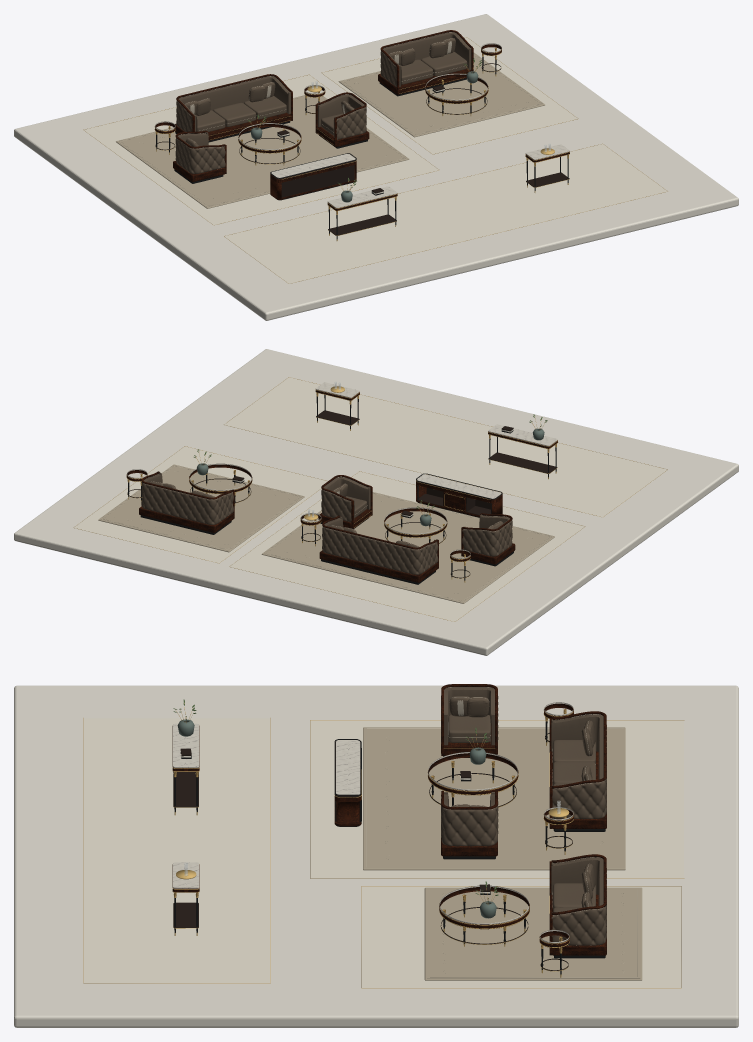
File: madison-exhibition.glb
3 renders of one model, top to bottom at view 1: azimuth 30°, elevation 25°; view 2: azimuth 150°, elevation 25°; view 3: azimuth 270°, elevation 25°, orthographic. The views are drawn at different scales.
Visible parts, largest first — view 1: Open exhibition web batch, Madison three-seat sofa | 50532.0 | salon-1 web batch, Madison two-seat sofa | 50533.0 | lounge-8 web batch, Madison TV furniture | salon-7 web batch, Madison armchair | 50534.0 | salon-3 web batch, Madison armchair | 50534.0 | salon-2 web batch, Madison console 170 | consoles-11 web batch, Madison console 100 | consoles-12 web batch, Madison coffee table | salon-4 web batch, Madison coffee table | lounge-10 web batch; view 2: Open exhibition web batch, Madison three-seat sofa | 50532.0 | salon-1 web batch, Madison two-seat sofa | 50533.0 | lounge-8 web batch, Madison TV furniture | salon-7 web batch, Madison armchair | 50534.0 | salon-3 web batch, Madison armchair | 50534.0 | salon-2 web batch, Madison console 170 | consoles-11 web batch, Madison console 100 | consoles-12 web batch, Madison coffee table | salon-4 web batch, Madison coffee table | lounge-10 web batch; view 3: Open exhibition web batch, Madison three-seat sofa | 50532.0 | salon-1 web batch, Madison two-seat sofa | 50533.0 | lounge-8 web batch, Madison armchair | 50534.0 | salon-2 web batch, Madison armchair | 50534.0 | salon-3 web batch, Madison TV furniture | salon-7 web batch, Madison console 170 | consoles-11 web batch, Madison coffee table | lounge-10 web batch, Madison console 100 | consoles-12 web batch, Madison coffee table | salon-4 web batch, Madison side table | lounge-9 web batch.
Boxes of the visible parts, x1=… form: Open exhibition web batch: x1=14, y1=14, x2=738, y2=320; Madison three-seat sofa | 50532.0 | salon-1 web batch: x1=173, y1=74, x2=292, y2=142; Madison two-seat sofa | 50533.0 | lounge-8 web batch: x1=378, y1=30, x2=473, y2=96; Madison TV furniture | salon-7 web batch: x1=270, y1=153, x2=356, y2=200; Madison armchair | 50534.0 | salon-3 web batch: x1=315, y1=92, x2=369, y2=148; Madison armchair | 50534.0 | salon-2 web batch: x1=173, y1=130, x2=226, y2=183; Madison console 170 | consoles-11 web batch: x1=327, y1=186, x2=397, y2=240; Madison console 100 | consoles-12 web batch: x1=525, y1=144, x2=569, y2=192; Madison coffee table | salon-4 web batch: x1=238, y1=123, x2=301, y2=165; Madison coffee table | lounge-10 web batch: x1=425, y1=73, x2=488, y2=115; Open exhibition web batch: x1=14, y1=349, x2=738, y2=655; Madison three-seat sofa | 50532.0 | salon-1 web batch: x1=319, y1=515, x2=438, y2=584; Madison two-seat sofa | 50533.0 | lounge-8 web batch: x1=139, y1=471, x2=234, y2=534; Madison TV furniture | salon-7 web batch: x1=416, y1=473, x2=502, y2=517; Madison armchair | 50534.0 | salon-3 web batch: x1=318, y1=475, x2=372, y2=528; Madison armchair | 50534.0 | salon-2 web batch: x1=461, y1=513, x2=515, y2=566; Madison console 170 | consoles-11 web batch: x1=488, y1=424, x2=557, y2=479; Madison console 100 | consoles-12 web batch: x1=315, y1=382, x2=359, y2=430; Madison coffee table | salon-4 web batch: x1=384, y1=507, x2=447, y2=543; Madison coffee table | lounge-10 web batch: x1=189, y1=463, x2=252, y2=505; Open exhibition web batch: x1=14, y1=685, x2=738, y2=1027; Madison three-seat sofa | 50532.0 | salon-1 web batch: x1=549, y1=711, x2=606, y2=831; Madison two-seat sofa | 50533.0 | lounge-8 web batch: x1=549, y1=854, x2=606, y2=958; Madison armchair | 50534.0 | salon-2 web batch: x1=441, y1=684, x2=498, y2=757; Madison armchair | 50534.0 | salon-3 web batch: x1=441, y1=791, x2=498, y2=859; Madison TV furniture | salon-7 web batch: x1=334, y1=739, x2=361, y2=826; Madison console 170 | consoles-11 web batch: x1=172, y1=723, x2=199, y2=815; Madison coffee table | lounge-10 web batch: x1=439, y1=885, x2=529, y2=946; Madison console 100 | consoles-12 web batch: x1=172, y1=862, x2=199, y2=935; Madison coffee table | salon-4 web batch: x1=427, y1=752, x2=518, y2=807; Madison side table | lounge-9 web batch: x1=539, y1=930, x2=569, y2=977.
Bounding box in the file's own units: 13 × 1.68 × 12.
Materials: 15 (3 with a texture image).
